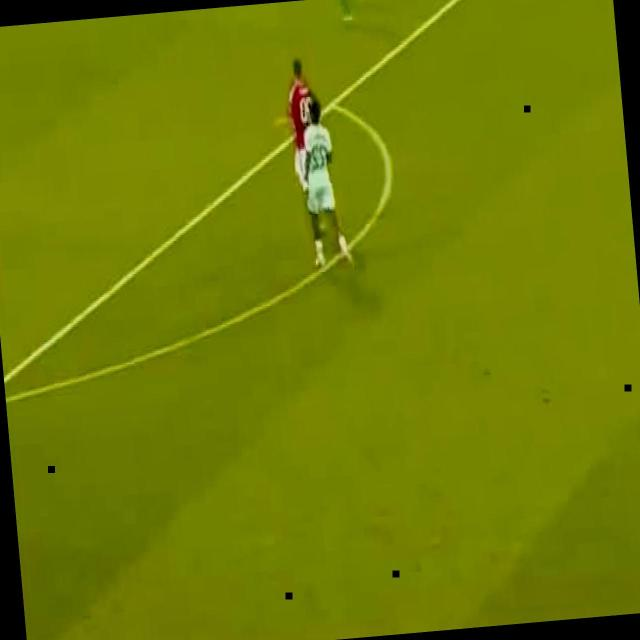player-white: (298, 96, 354, 274), (270, 57, 324, 235), (330, 0, 367, 22)
